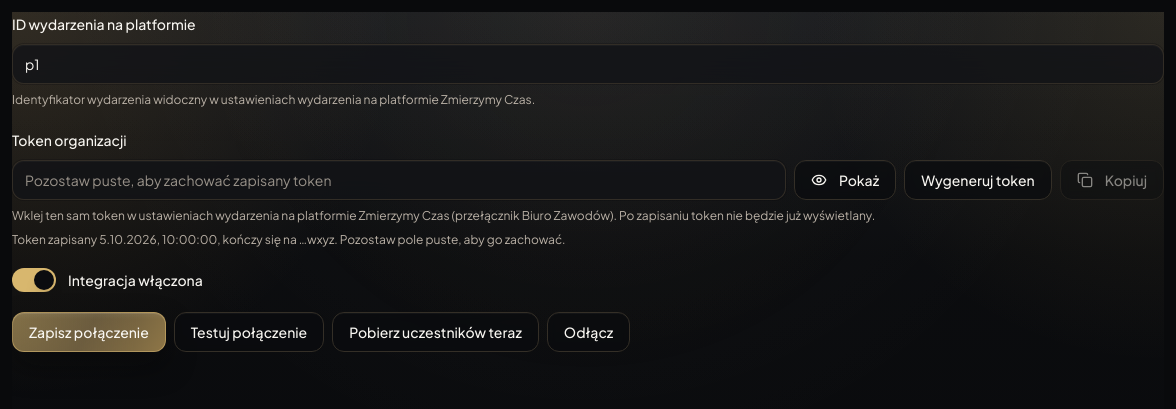
Scenario: EventPlatformConnectionSection › announces the connection test result in a live region
Click the button "Testuj połączenie" at [249, 332], box [174,312,324,352]
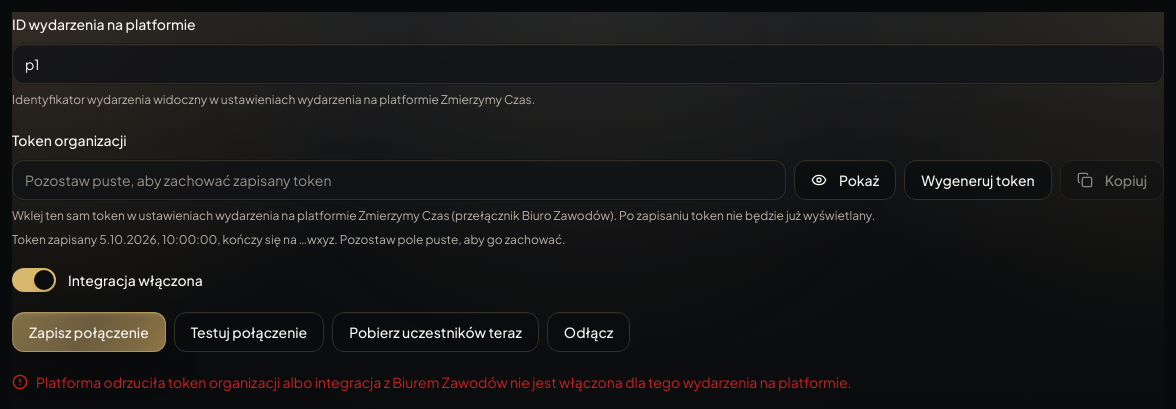
Expected: the text "Platforma odrzuciła token organizacji" is shown, [36,373,852,391]
